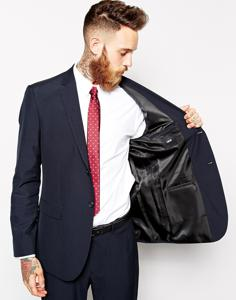F_M_suit jacket: (11, 70, 224, 255)
F_belt: (88, 220, 132, 236)
F_dress pants: (33, 233, 145, 298)
F_tie: (84, 86, 106, 218)
